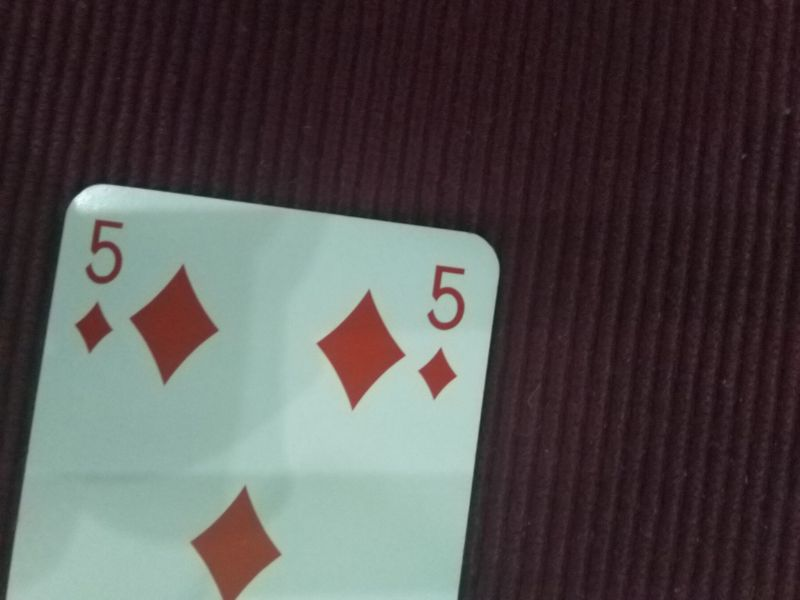5d: (71, 214, 125, 359), (414, 261, 467, 403)
